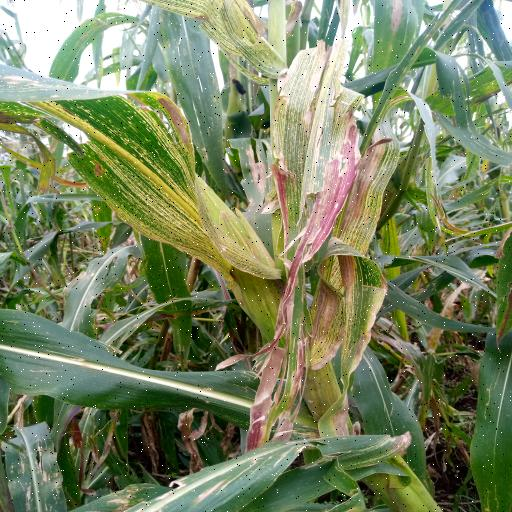Corn_Streak: (1, 61, 278, 274)
